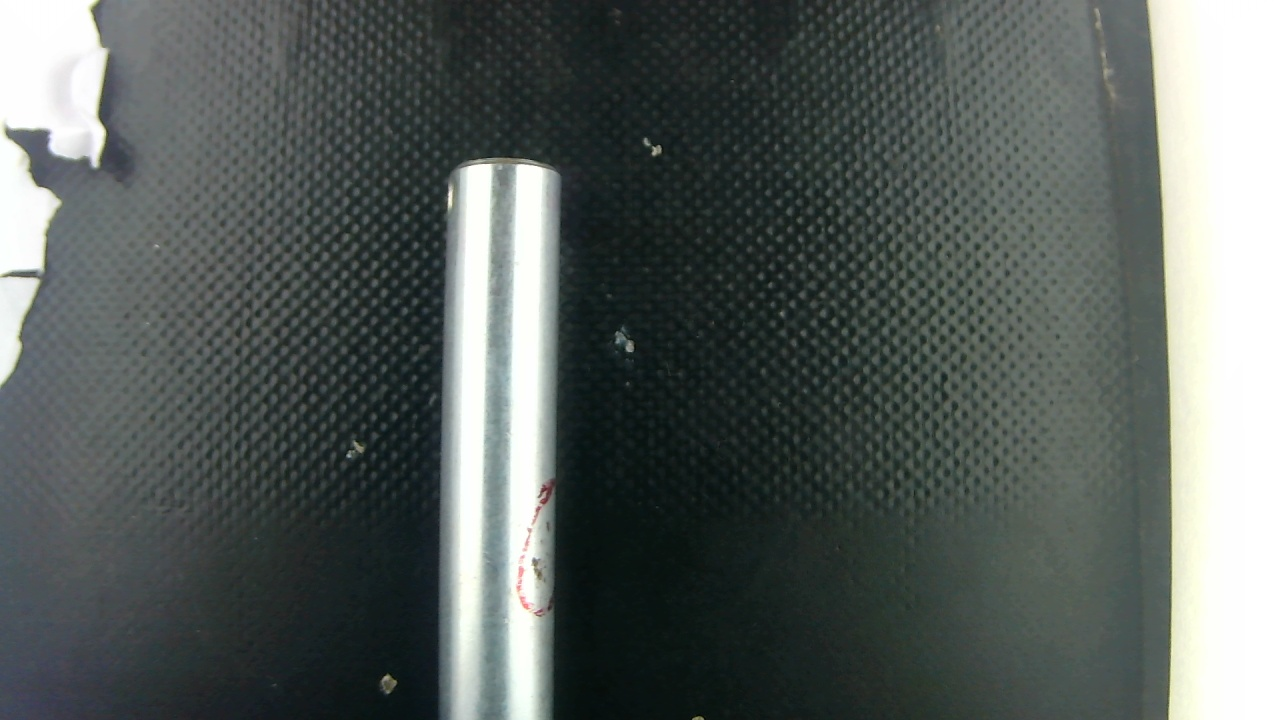rust_pin: (525, 504, 563, 590)
